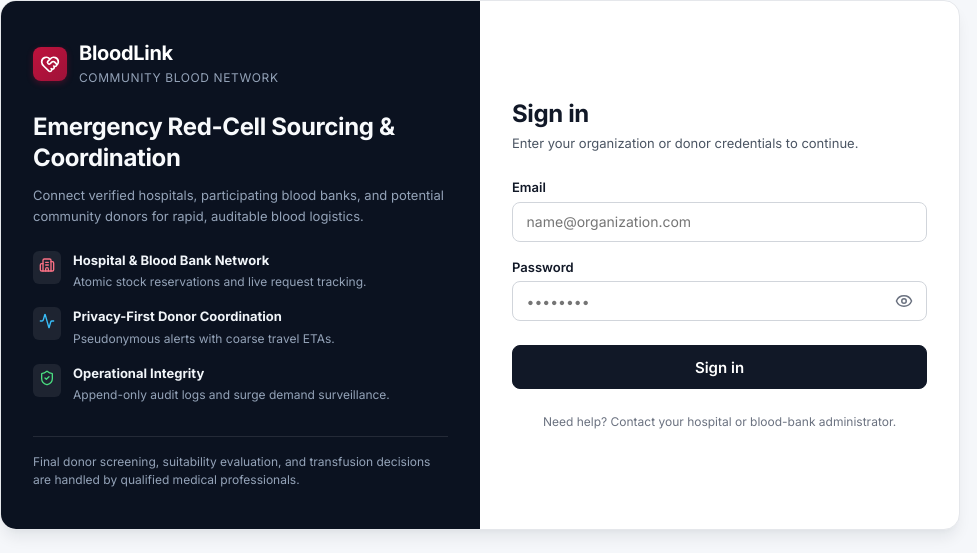
Auth Flow & Security › displays generic error on invalid login without disclosing details
In the field labelled "Email": (720, 222) [512,202,927,242], type "unknown@example.com"
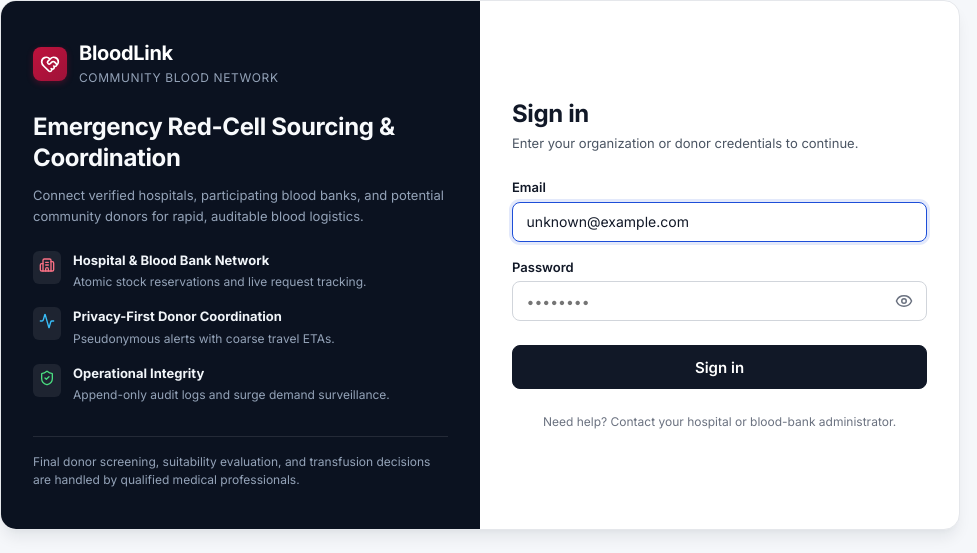
In the password field labelled "Password": (720, 301) [512,281,927,321], type "wrong-password"
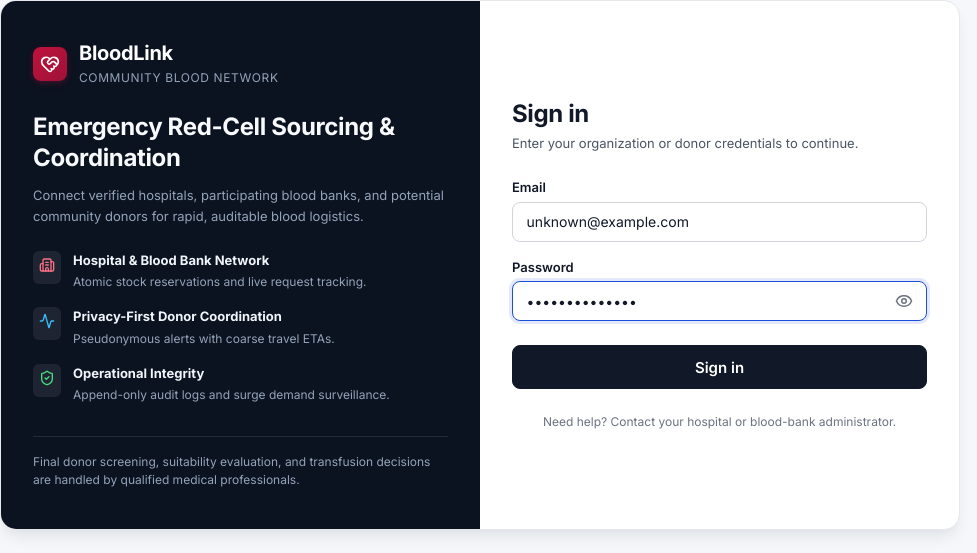
Click the button "Sign in": (720, 367) [512,345,927,389]
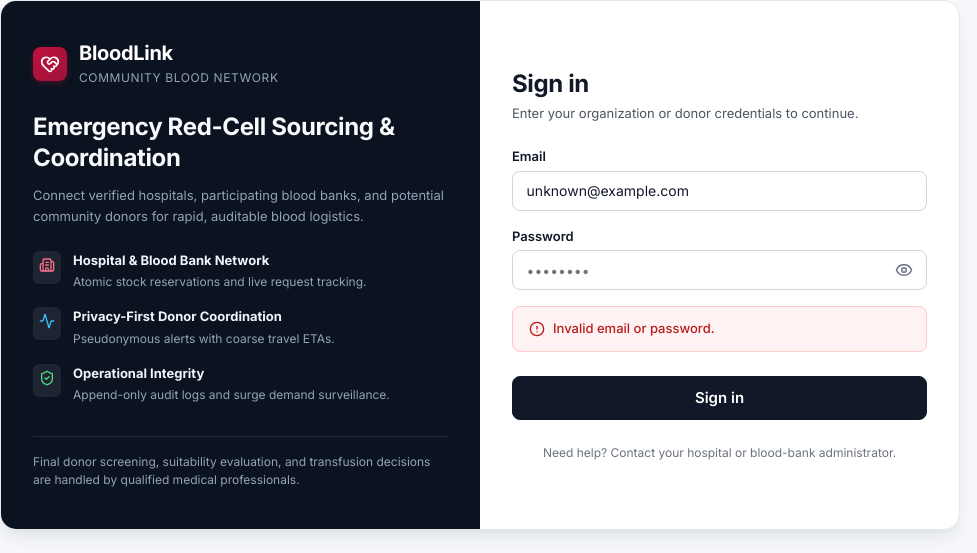
Expected: the text "Invalid email or password." is shown, [553,319,715,339]
